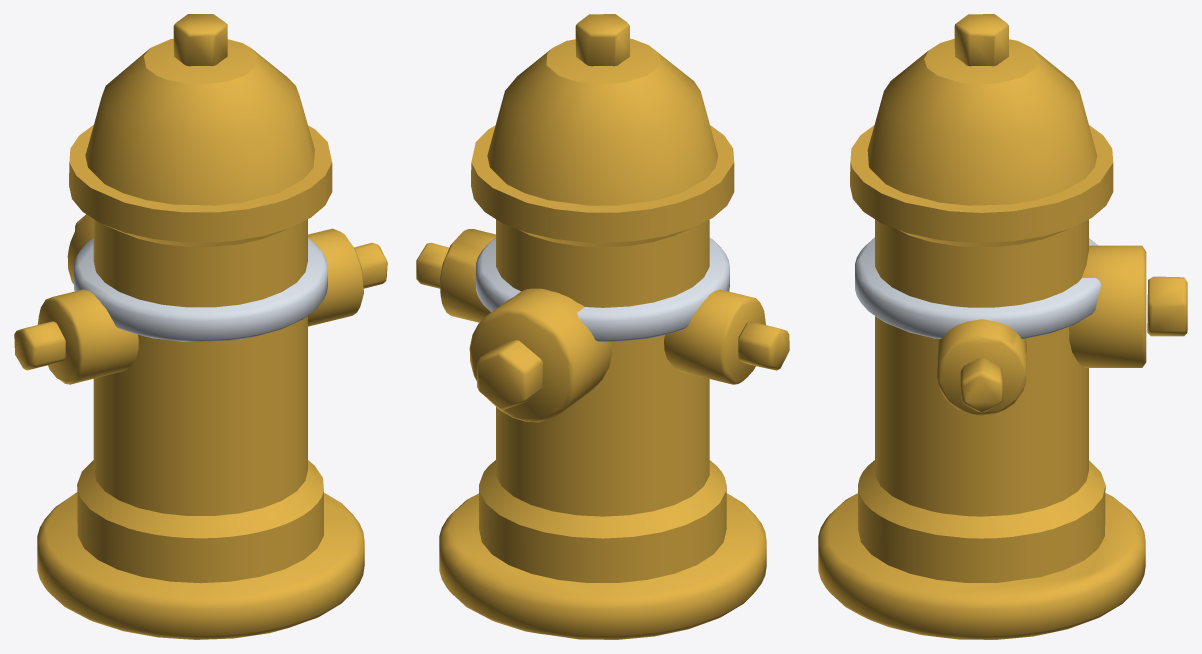
File: gold_hydrant.glb
3 renders of one model, left to right at view 1: azimuth 30°, elevation 25°; view 2: azimuth 150°, elevation 25°; view 3: azimuth 270°, elevation 25°, orthographic.
Visible parts, largest first — view 1: gold_hydrant; view 2: gold_hydrant; view 3: gold_hydrant.
Boxes of the visible parts, x1,y1,x2,y2 form: gold_hydrant: (14,14,387,639); gold_hydrant: (416,14,789,639); gold_hydrant: (818,14,1187,639).
Bounding box in the file's own units: 0.4994 × 0.7395 × 0.4475.
Materials: 1 (1 with a texture image).
